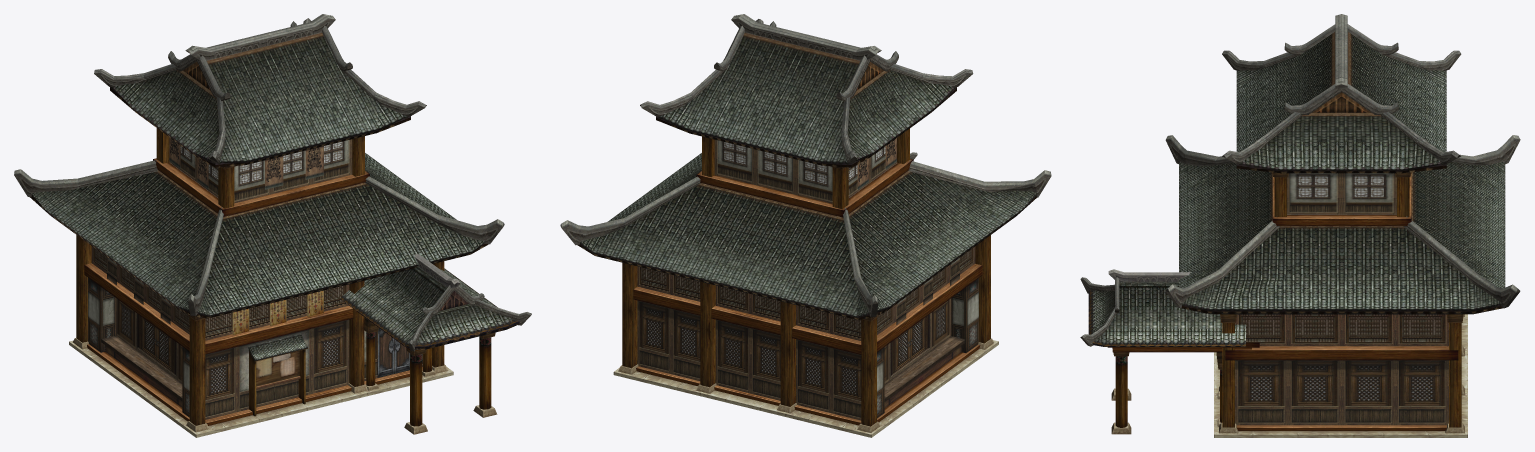
The model's file is b1-011-workhouse.fbx.
The picture shows the model from 3 angles, left to right: view 1: azimuth 30°, elevation 25°; view 2: azimuth 150°, elevation 25°; view 3: azimuth 270°, elevation 25°; orthographic projection.
Visible parts, largest first — view 1: b1-011-workhouse-01, b1-011-workhouse-02, b1-011-workhouse-03; view 2: b1-011-workhouse-01, b1-011-workhouse-02, b1-011-workhouse-03; view 3: b1-011-workhouse-01, b1-011-workhouse-02, b1-011-workhouse-03.
Part boxes in pixels (left/top/right/bottom): b1-011-workhouse-01: left=14, top=14, right=531, bottom=434; b1-011-workhouse-02: left=88, top=137, right=422, bottom=419; b1-011-workhouse-03: left=69, top=158, right=519, bottom=437; b1-011-workhouse-01: left=560, top=14, right=1051, bottom=432; b1-011-workhouse-02: left=637, top=138, right=978, bottom=420; b1-011-workhouse-03: left=613, top=159, right=998, bottom=437; b1-011-workhouse-01: left=1080, top=14, right=1520, bottom=434; b1-011-workhouse-02: left=1235, top=173, right=1448, bottom=425; b1-011-workhouse-03: left=1088, top=172, right=1467, bottom=437.
Bounding box in the file's own units: 13.67 × 13.55 × 16.44.
